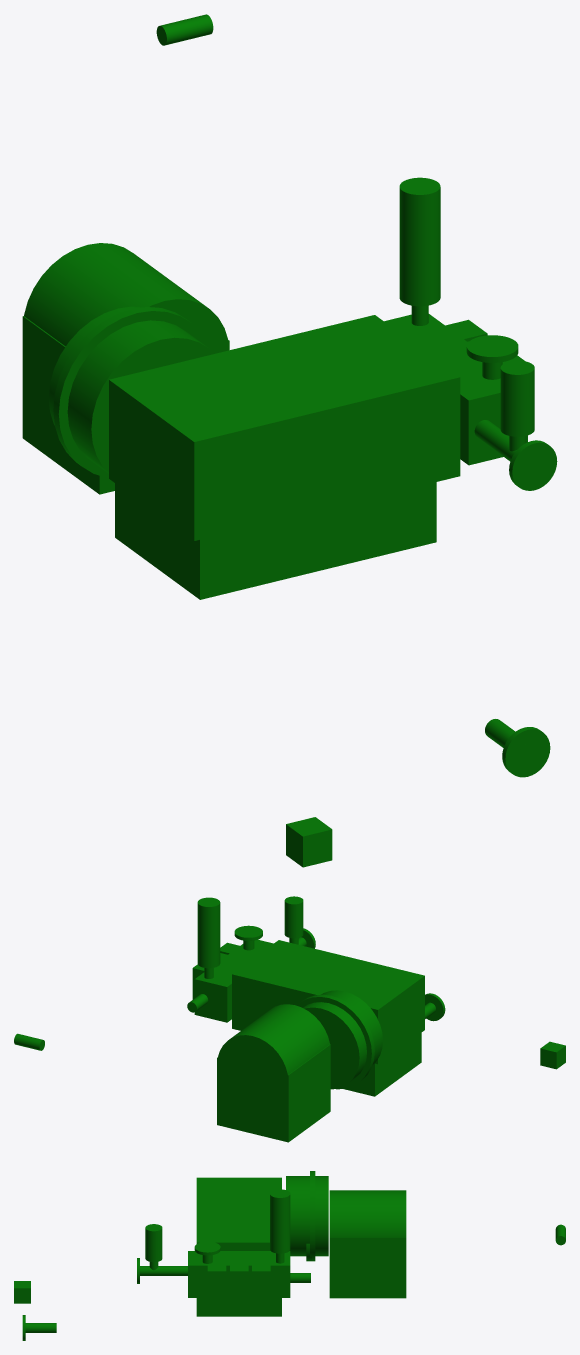
The model's file is Image-1710907701656-2280806086400_42-PB51.fbx.
3 renders of one model, top to bottom at view 1: azimuth 30°, elevation 25°; view 2: azimuth 150°, elevation 25°; view 3: azimuth 270°, elevation 25°, orthographic. The views are drawn at different scales.
Visible parts, largest first — view 1: BOX 3 of SUBEQUIPMENT /42-PB51/PRIM, BOX 1 of SUBEQUIPMENT /42-PB51/PRIM, CYLINDER 3 of SUBEQUIPMENT /42-PB51/PRIM, CYLINDER 2 of SUBEQUIPMENT /42-PB51/PRIM, BOX 4 of SUBEQUIPMENT /42-PB51/PRIM, BOX 2 of SUBEQUIPMENT /42-PB51/PRIM, CYLINDER 1 of SUBEQUIPMENT /42-CX51, CYLINDER 1 of SUBEQUIPMENT /42-PB51/PRIM, /42-PB51/N2, CYLINDER 1 of SUBEQUIPMENT /42-CX50, /42-PB51/N4, BOX 1 of SUBEQUIPMENT /42-CB51 (+2 smaller); view 2: BOX 3 of SUBEQUIPMENT /42-PB51/PRIM, CYLINDER 3 of SUBEQUIPMENT /42-PB51/PRIM, BOX 2 of SUBEQUIPMENT /42-PB51/PRIM, CYLINDER 2 of SUBEQUIPMENT /42-PB51/PRIM, BOX 4 of SUBEQUIPMENT /42-PB51/PRIM, BOX 1 of SUBEQUIPMENT /42-PB51/PRIM, CYLINDER 1 of SUBEQUIPMENT /42-CX51, CYLINDER 1 of SUBEQUIPMENT /42-PB51/PRIM, CYLINDER 1 of SUBEQUIPMENT /42-CX50, BOX 1 of SUBEQUIPMENT /42-CB51, /42-PB51/N1, /42-PB51/N4 (+1 smaller); view 3: BOX 3 of SUBEQUIPMENT /42-PB51/PRIM, BOX 2 of SUBEQUIPMENT /42-PB51/PRIM, CYLINDER 3 of SUBEQUIPMENT /42-PB51/PRIM, BOX 4 of SUBEQUIPMENT /42-PB51/PRIM, CYLINDER 2 of SUBEQUIPMENT /42-PB51/PRIM, BOX 1 of SUBEQUIPMENT /42-PB51/PRIM, CYLINDER 1 of SUBEQUIPMENT /42-CX51, BOX 7 of SUBEQUIPMENT /42-PB51/PRIM, BOX 5 of SUBEQUIPMENT /42-PB51/PRIM, BOX 6 of SUBEQUIPMENT /42-PB51/PRIM, CYLINDER 1 of SUBEQUIPMENT /42-CX50, CYLINDER 1 of SUBEQUIPMENT /42-PB51/PRIM (+4 smaller).
Part boxes in pixels (bbox=[...]): BOX 3 of SUBEQUIPMENT /42-PB51/PRIM: bbox=[109, 315, 460, 540]; BOX 1 of SUBEQUIPMENT /42-PB51/PRIM: bbox=[115, 482, 436, 599]; CYLINDER 3 of SUBEQUIPMENT /42-PB51/PRIM: bbox=[24, 243, 229, 353]; CYLINDER 2 of SUBEQUIPMENT /42-PB51/PRIM: bbox=[48, 306, 214, 473]; BOX 4 of SUBEQUIPMENT /42-PB51/PRIM: bbox=[384, 314, 527, 465]; BOX 2 of SUBEQUIPMENT /42-PB51/PRIM: bbox=[22, 316, 229, 494]; CYLINDER 1 of SUBEQUIPMENT /42-CX51: bbox=[399, 177, 440, 306]; CYLINDER 1 of SUBEQUIPMENT /42-PB51/PRIM: bbox=[53, 307, 210, 477]; /42-PB51/N2: bbox=[474, 420, 557, 490]; CYLINDER 1 of SUBEQUIPMENT /42-CX50: bbox=[500, 360, 534, 436]; /42-PB51/N4: bbox=[485, 719, 550, 777]; BOX 1 of SUBEQUIPMENT /42-CB51: bbox=[286, 817, 332, 867]; BOX 3 of SUBEQUIPMENT /42-PB51/PRIM: bbox=[232, 940, 424, 1064]; CYLINDER 3 of SUBEQUIPMENT /42-PB51/PRIM: bbox=[217, 1004, 329, 1111]; BOX 2 of SUBEQUIPMENT /42-PB51/PRIM: bbox=[217, 1044, 330, 1142]; CYLINDER 2 of SUBEQUIPMENT /42-PB51/PRIM: bbox=[303, 990, 382, 1089]; BOX 4 of SUBEQUIPMENT /42-PB51/PRIM: bbox=[194, 939, 273, 1022]; BOX 1 of SUBEQUIPMENT /42-PB51/PRIM: bbox=[344, 1033, 421, 1096]; CYLINDER 1 of SUBEQUIPMENT /42-CX51: bbox=[197, 897, 220, 968]; CYLINDER 1 of SUBEQUIPMENT /42-PB51/PRIM: bbox=[297, 994, 374, 1089]; CYLINDER 1 of SUBEQUIPMENT /42-CX50: bbox=[284, 896, 303, 938]; BOX 1 of SUBEQUIPMENT /42-CB51: bbox=[540, 1041, 565, 1069]; /42-PB51/N1: bbox=[234, 925, 262, 950]; /42-PB51/N4: bbox=[425, 993, 445, 1021]; BOX 3 of SUBEQUIPMENT /42-PB51/PRIM: bbox=[196, 1177, 281, 1250]; BOX 2 of SUBEQUIPMENT /42-PB51/PRIM: bbox=[329, 1237, 406, 1298]; CYLINDER 3 of SUBEQUIPMENT /42-PB51/PRIM: bbox=[329, 1190, 406, 1236]; BOX 4 of SUBEQUIPMENT /42-PB51/PRIM: bbox=[188, 1251, 290, 1297]; CYLINDER 2 of SUBEQUIPMENT /42-PB51/PRIM: bbox=[286, 1176, 328, 1256]; BOX 1 of SUBEQUIPMENT /42-PB51/PRIM: bbox=[196, 1298, 281, 1316]; CYLINDER 1 of SUBEQUIPMENT /42-CX51: bbox=[270, 1189, 290, 1253]; BOX 7 of SUBEQUIPMENT /42-PB51/PRIM: bbox=[207, 1265, 226, 1303]; BOX 5 of SUBEQUIPMENT /42-PB51/PRIM: bbox=[230, 1265, 248, 1303]; BOX 6 of SUBEQUIPMENT /42-PB51/PRIM: bbox=[252, 1265, 270, 1303]; CYLINDER 1 of SUBEQUIPMENT /42-CX50: bbox=[145, 1224, 162, 1262]; CYLINDER 1 of SUBEQUIPMENT /42-PB51/PRIM: bbox=[310, 1171, 315, 1261].
Size of the model in its own units: 1.53 by 3.23 by 1.27.
